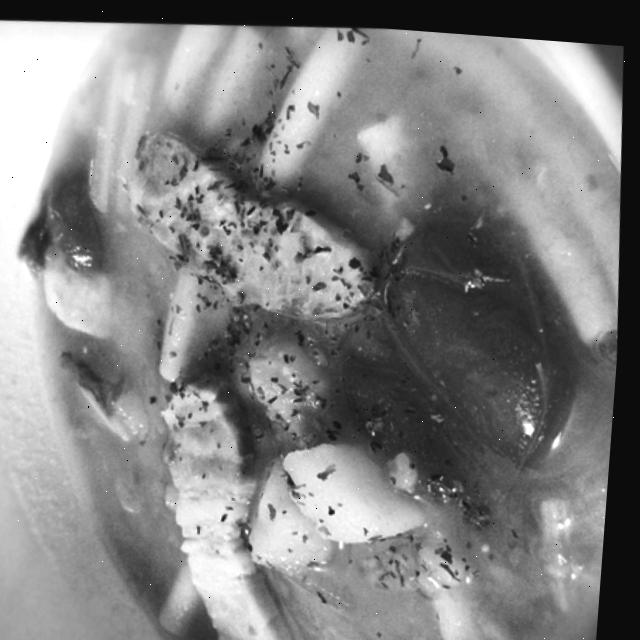米饭主食: (0, 127, 633, 640)
